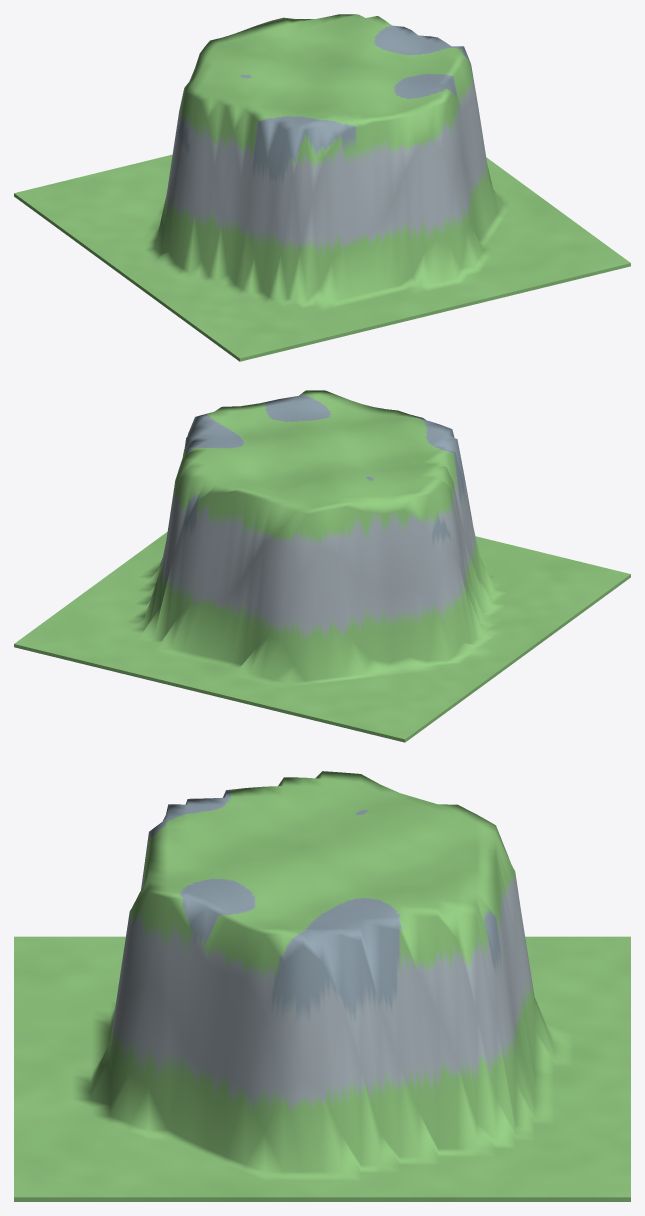
File: Grass_RockyMountains_08.obj
The picture shows the model from 3 angles, top to bottom: view 1: azimuth 30°, elevation 25°; view 2: azimuth 150°, elevation 25°; view 3: azimuth 270°, elevation 25°; orthographic projection. The views are drawn at different scales.
Bounding box in the file's own units: 10 × 3.97 × 10.
Materials: 1 (1 with a texture image).
